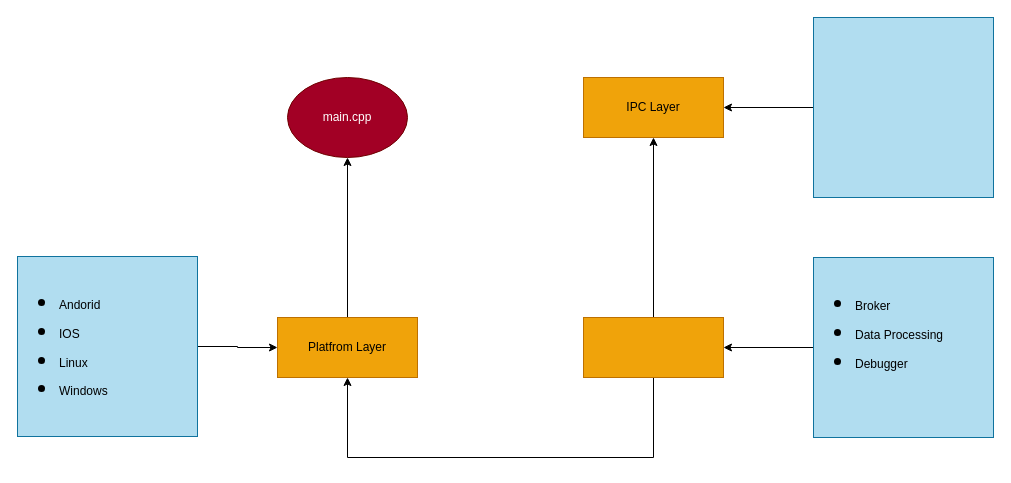
Some shapes in this 1011 by 483 pixel diagram are drawn without their labels. Each missing label, with the box of its shape:
Communication Layer: (582, 316, 724, 378)
gRPC sensor_data.proto my_service.proto: (812, 16, 994, 198)
